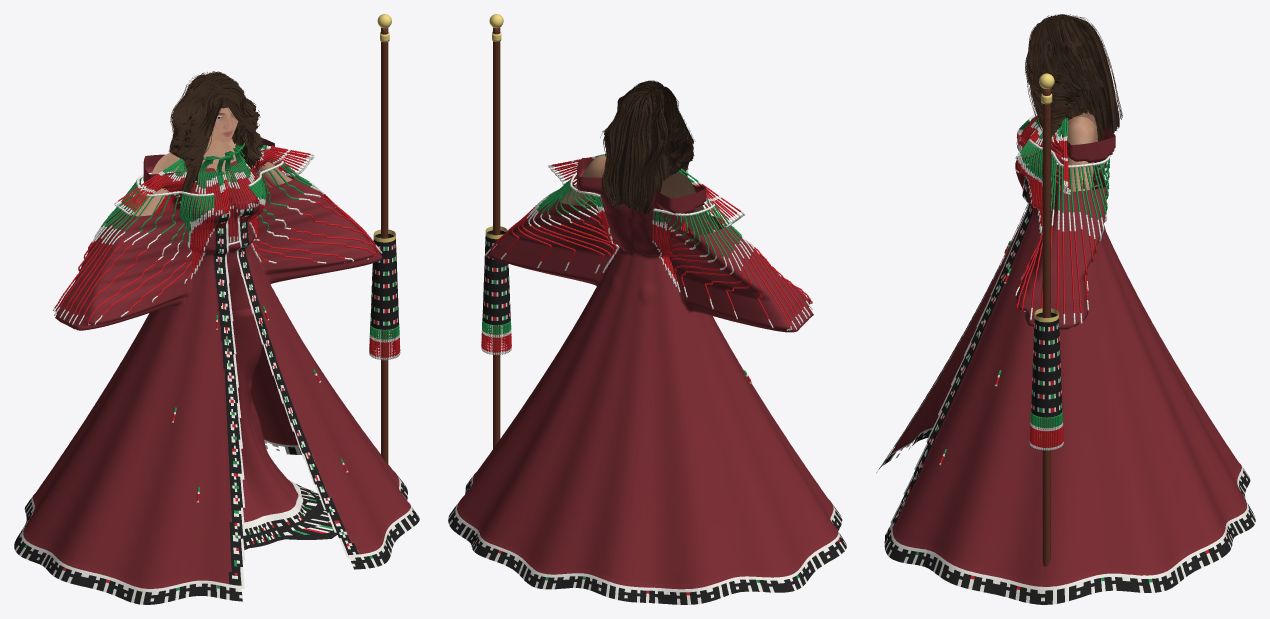
Rendered from female-oromo-red.glb.
3 renders of one model, left to right at view 1: azimuth 30°, elevation 25°; view 2: azimuth 150°, elevation 25°; view 3: azimuth 270°, elevation 25°, orthographic. The views are drawn at different scales.
Visible parts, largest first — view 1: Oromo_Cape, Oromo_Beadwork, Oromo_Dress, Hair_hair1_0, Oromo_Staff, Full_Body_Arms1_0, Full_Body_Mouth Cavity1_0; view 2: Oromo_Cape, Oromo_Beadwork, Hair_hair1_0, Oromo_Staff, Oromo_Dress, Full_Body_Arms1_0; view 3: Oromo_Cape, Hair_hair1_0, Oromo_Staff, Oromo_Beadwork, Oromo_Dress, Full_Body_Arms1_0.
Boxes of the visible parts, x1,y1,x2,y2 form: Oromo_Cape: (14, 167, 419, 604); Oromo_Beadwork: (52, 143, 382, 502); Oromo_Dress: (143, 139, 341, 549); Hair_hair1_0: (168, 71, 263, 201); Oromo_Staff: (369, 14, 400, 465); Full_Body_Arms1_0: (132, 152, 292, 216); Full_Body_Mouth Cavity1_0: (202, 107, 238, 163); Oromo_Cape: (448, 185, 846, 604); Oromo_Beadwork: (485, 154, 812, 383); Hair_hair1_0: (600, 80, 695, 214); Oromo_Staff: (481, 14, 511, 448); Oromo_Dress: (577, 158, 706, 229); Full_Body_Arms1_0: (559, 155, 718, 234); Oromo_Cape: (876, 136, 1255, 604); Hair_hair1_0: (1025, 14, 1122, 141); Oromo_Staff: (1029, 73, 1063, 566); Oromo_Beadwork: (939, 113, 1110, 465); Oromo_Dress: (1023, 87, 1115, 190); Full_Body_Arms1_0: (1066, 116, 1097, 191).
Bounding box in the file's own units: 1.43 × 1.82 × 1.19.
16 materials, 8 textured.
